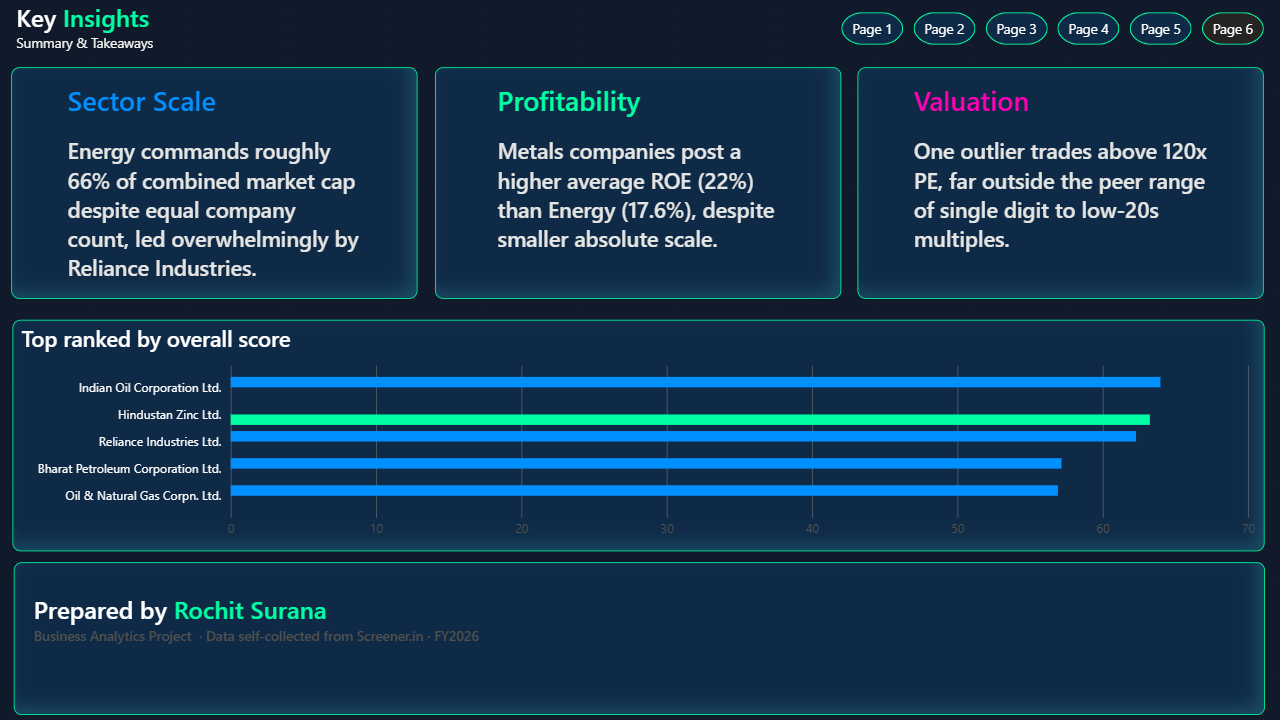

What the dashboard file says about the page in this screenshot:
{"tool":"powerbi","page":{"name":"Page 6","canvas":[1280,720],"ordinal":5},"visuals":[{"type":"textbox","box":[16,0,448,80],"z":0},{"type":"pageNavigator","box":[833.2,16,416,32],"z":1000},{"type":"shape","box":[16,70.2,400,227.7],"z":2000},{"type":"shape","box":[433.2,70.2,400,227.7],"z":3000},{"type":"shape","box":[849.2,70.2,400,227.7],"z":4000},{"type":"textbox","box":[66.5,80,300.3,300.3],"z":6000},{"type":"textbox","box":[489.8,80,300.3,300.3],"z":7000},{"type":"textbox","box":[899.7,80,300.3,300.3],"z":8000},{"type":"clusteredBarChart","title":"Top ranked by overall score","fields":{"Category":["Company (Company_Master).Company"],"Y":["Company (Company_Master).Overall Score"],"Series":["Company (Company_Master).Sector"]},"box":[16.7,318.6,1232.7,228.2],"z":9000},{"type":"shape","box":[18.5,557.5,1232,150.2],"z":10001},{"type":"textbox","box":[33.4,583,516.2,115.5],"z":10501}]}

Visuals, with their boxes in screenshot pixels (x1, y1, x2, y2), scaled from the page's 1280x720 canvas onto the 1280x720 screenshot:
textbox: (16, 0, 464, 80)
pageNavigator: (833, 16, 1249, 48)
shape: (16, 70, 416, 298)
shape: (433, 70, 833, 298)
shape: (849, 70, 1249, 298)
textbox: (66, 80, 367, 380)
textbox: (490, 80, 790, 380)
textbox: (900, 80, 1200, 380)
"Top ranked by overall score" clusteredBarChart: (17, 319, 1249, 547)
shape: (18, 558, 1250, 708)
textbox: (33, 583, 550, 698)
